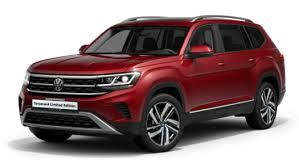volkswagen: (49, 74, 67, 94)
